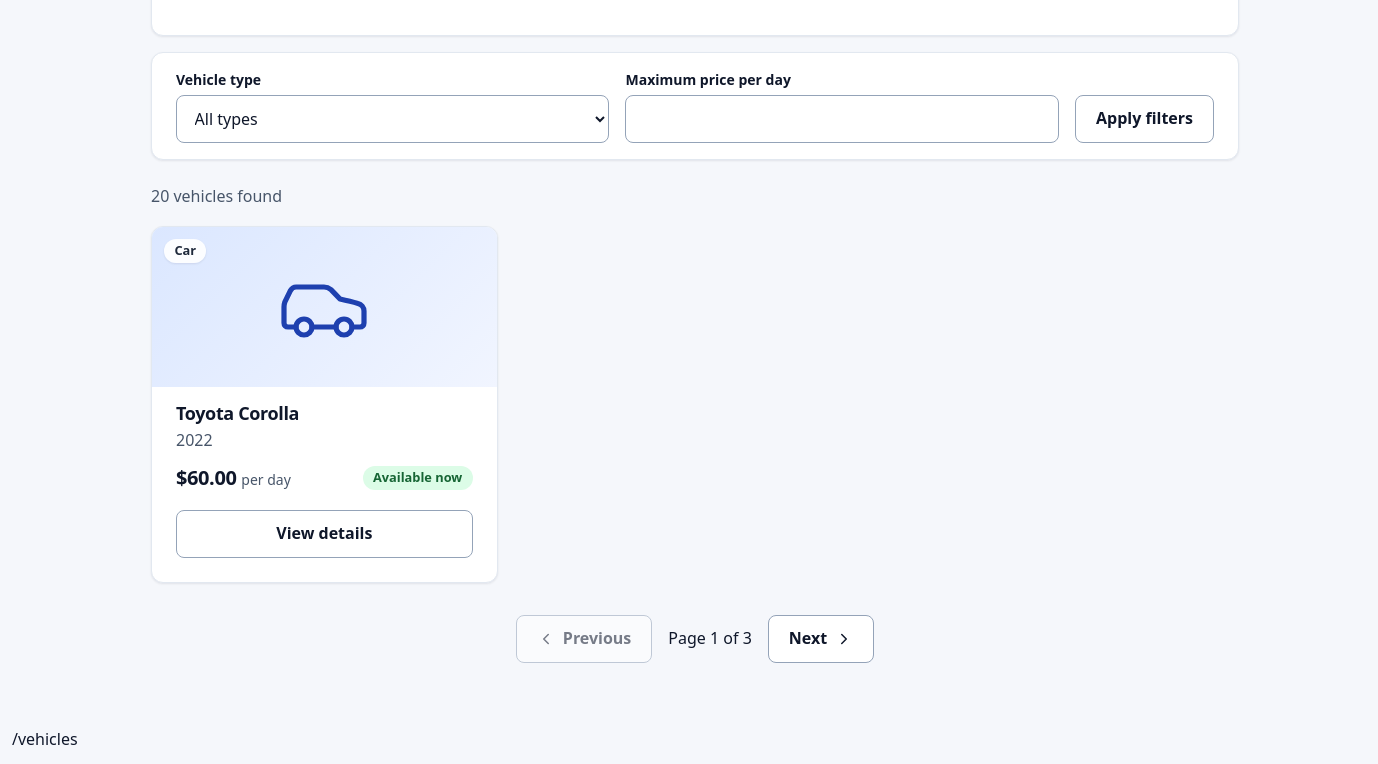
Scenario: VehiclesPage › pages through the server results
This screenshot has width=1378, height=764.
(page scrolled)
Expected: the text "Page 1 of 3" is shown, [668,626,752,652]
Click the button "Next" at (821, 639), box [768,615,874,663]
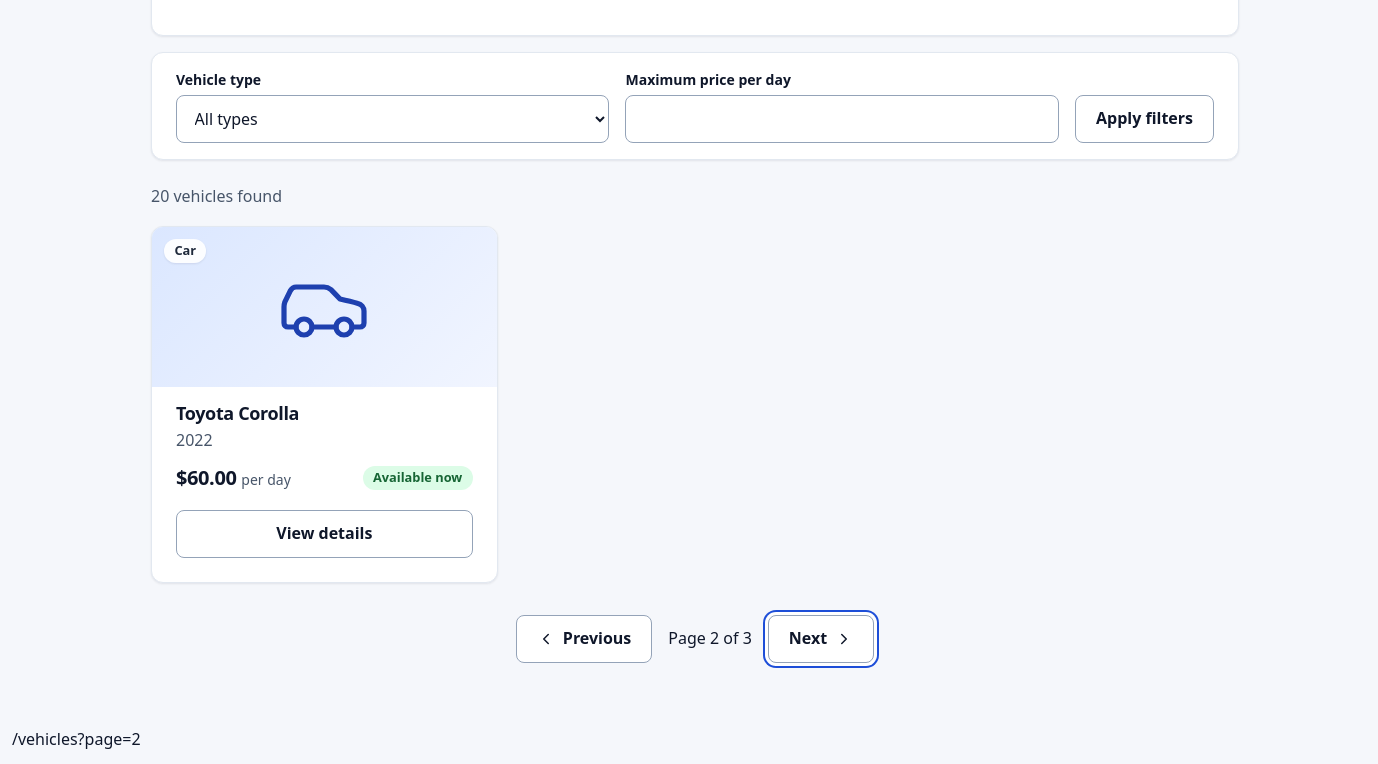
Expected: the text "Page 2 of 3" is shown, [668,626,752,652]
Expected: the text with test id "location" reads "/vehicles?page=2", [12,728,140,750]
